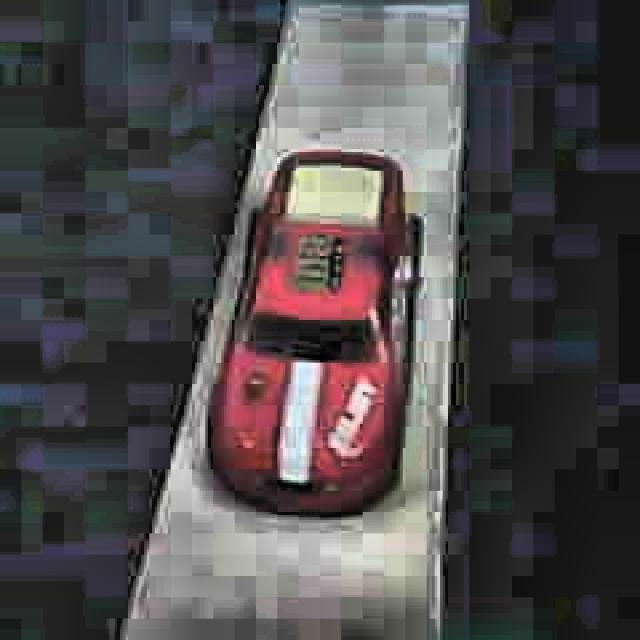car: (205, 148, 424, 526)
